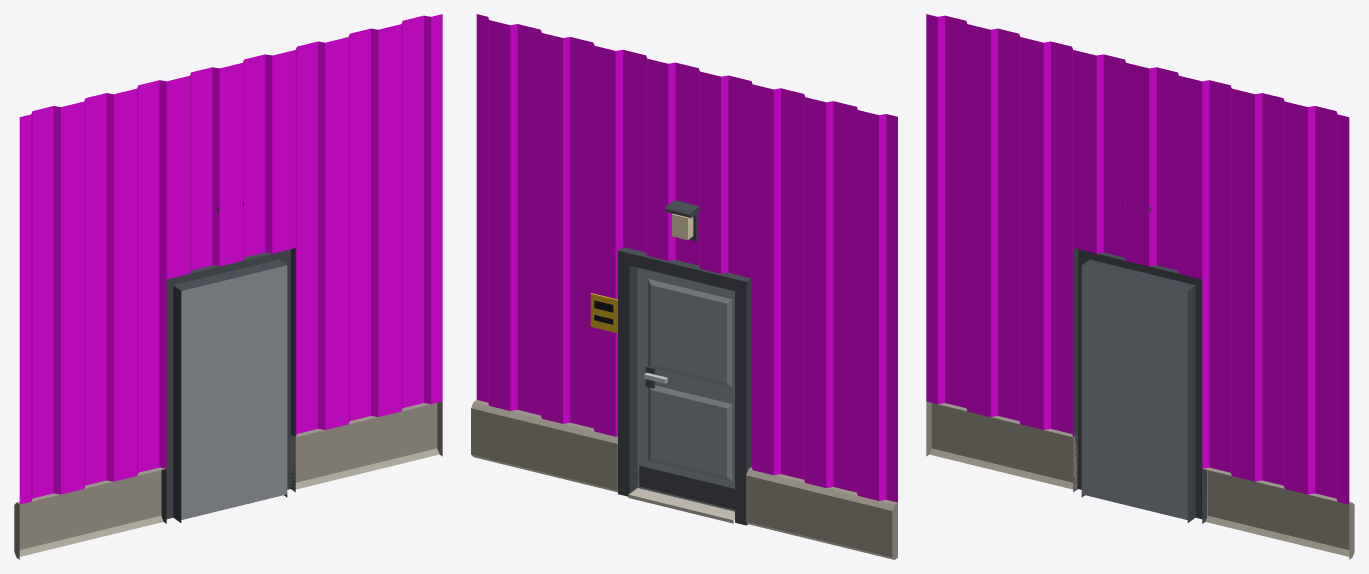
File: ind_door_man.glb
3 views of the same model, side by side, from view 1: azimuth 30°, elevation 25°; view 2: azimuth 150°, elevation 25°; view 3: azimuth 330°, elevation 25° (orthographic).
Visible parts, largest first — view 1: ind_door_man__mesh; view 2: ind_door_man__mesh; view 3: ind_door_man__mesh.
Boxes of the visible parts, x1,y1,x2,y2 form: ind_door_man__mesh: (14,14,442,559); ind_door_man__mesh: (471,14,897,559); ind_door_man__mesh: (926,14,1354,559).
Size of what is drawn, in the model's own units: 4 by 4 by 0.21.
Materials: 1 (1 with a texture image).
